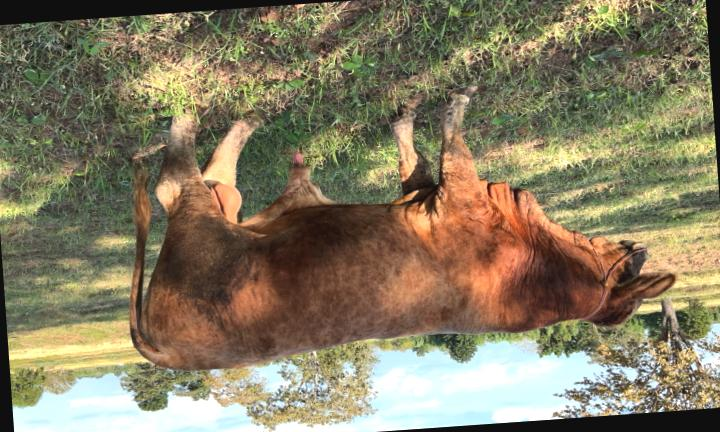Charolais: (131, 87, 675, 370)
